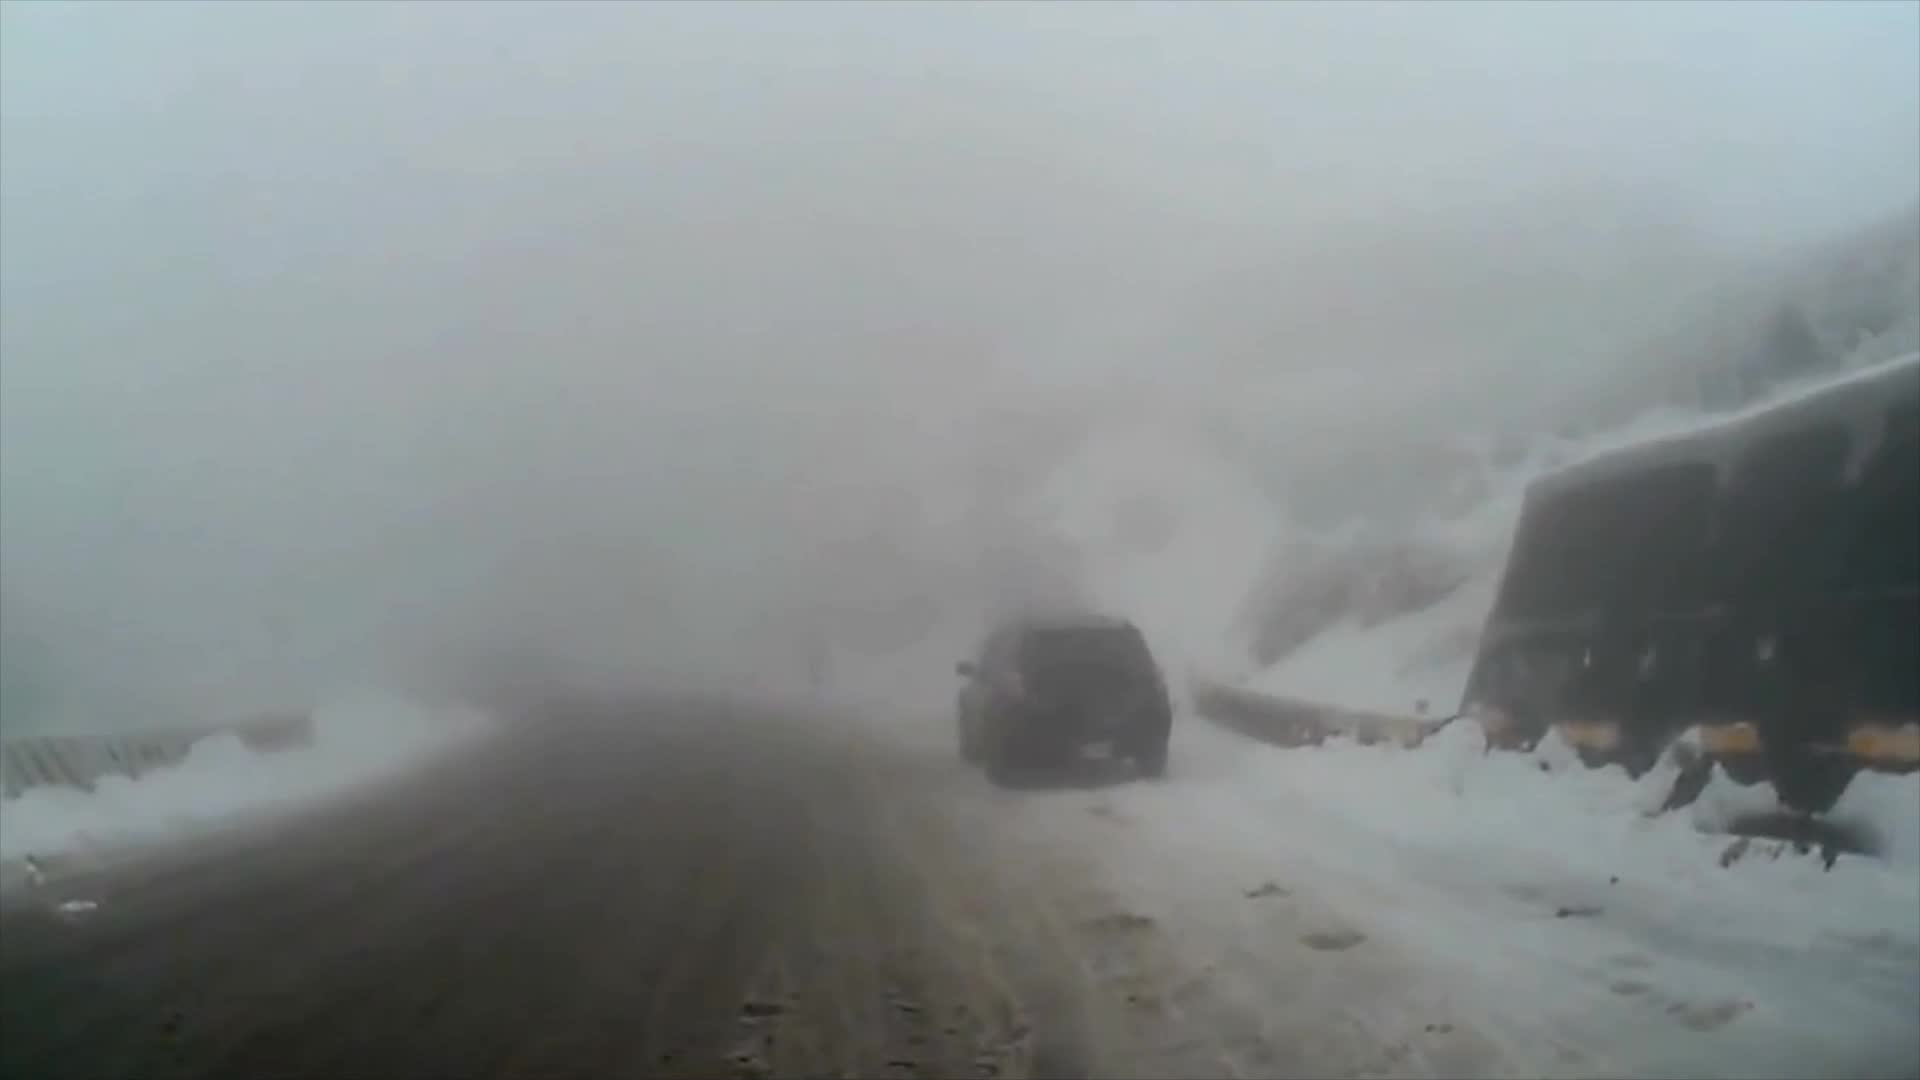vehicle: (953, 607, 1172, 786)
